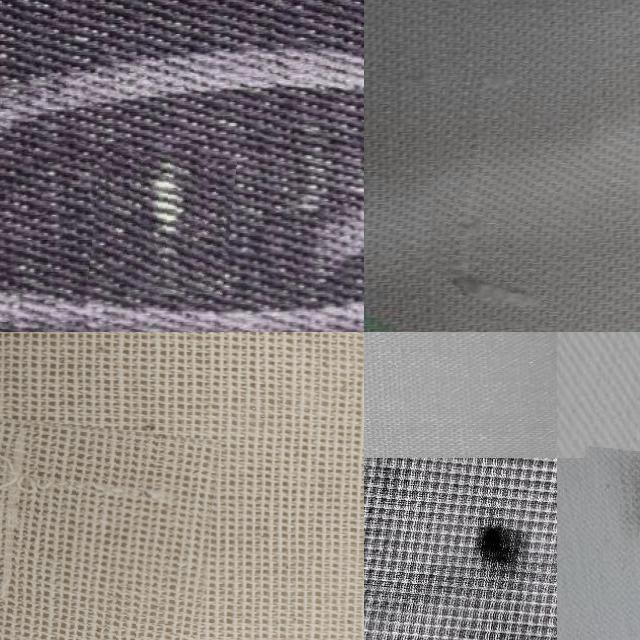Thread_other: (394, 492, 556, 612), (572, 452, 640, 618)
stains: (428, 33, 596, 331), (0, 419, 213, 640), (90, 150, 232, 292)
